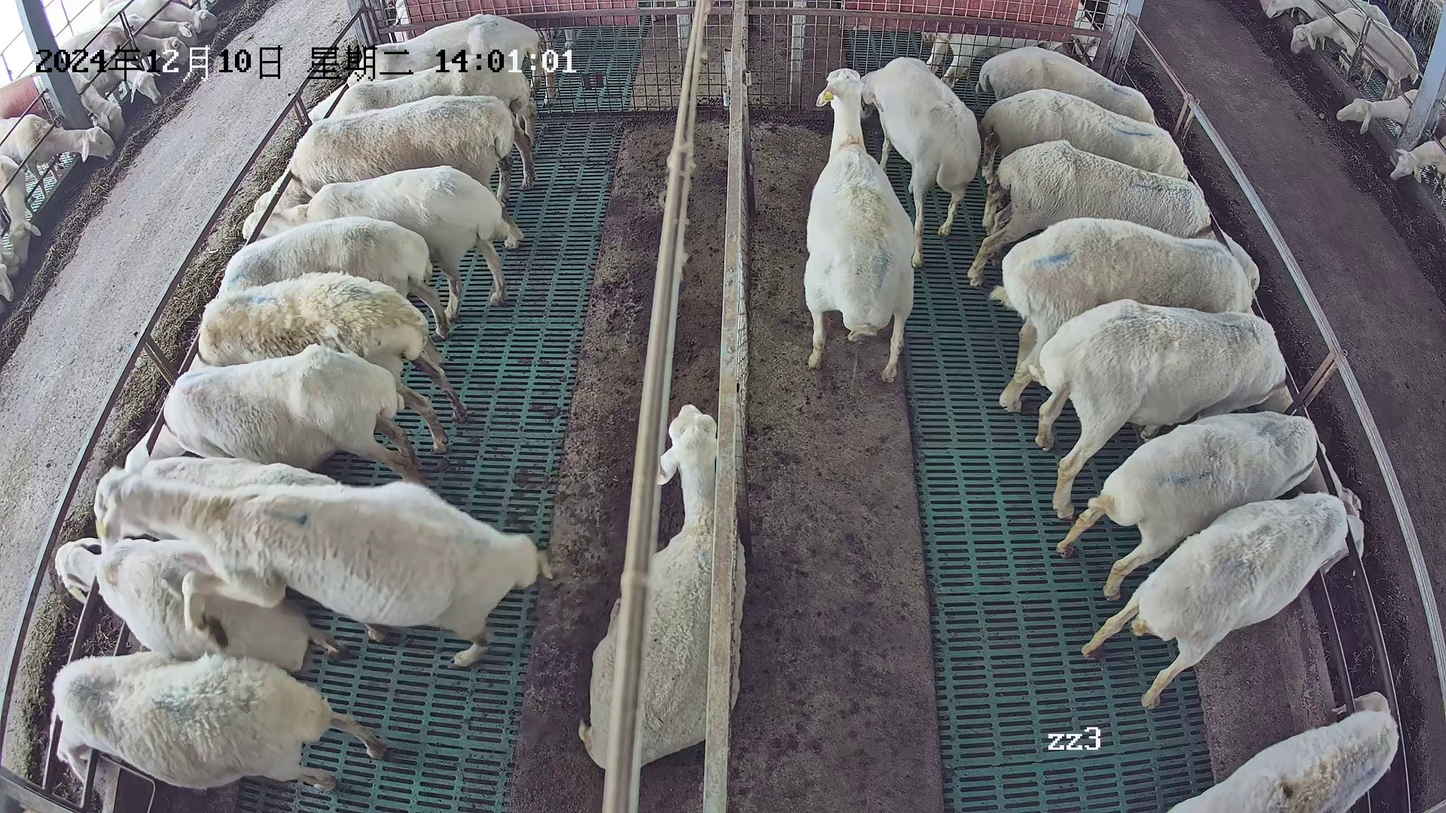Smounting: (49, 464, 554, 676)
mounted: (52, 535, 344, 672)
